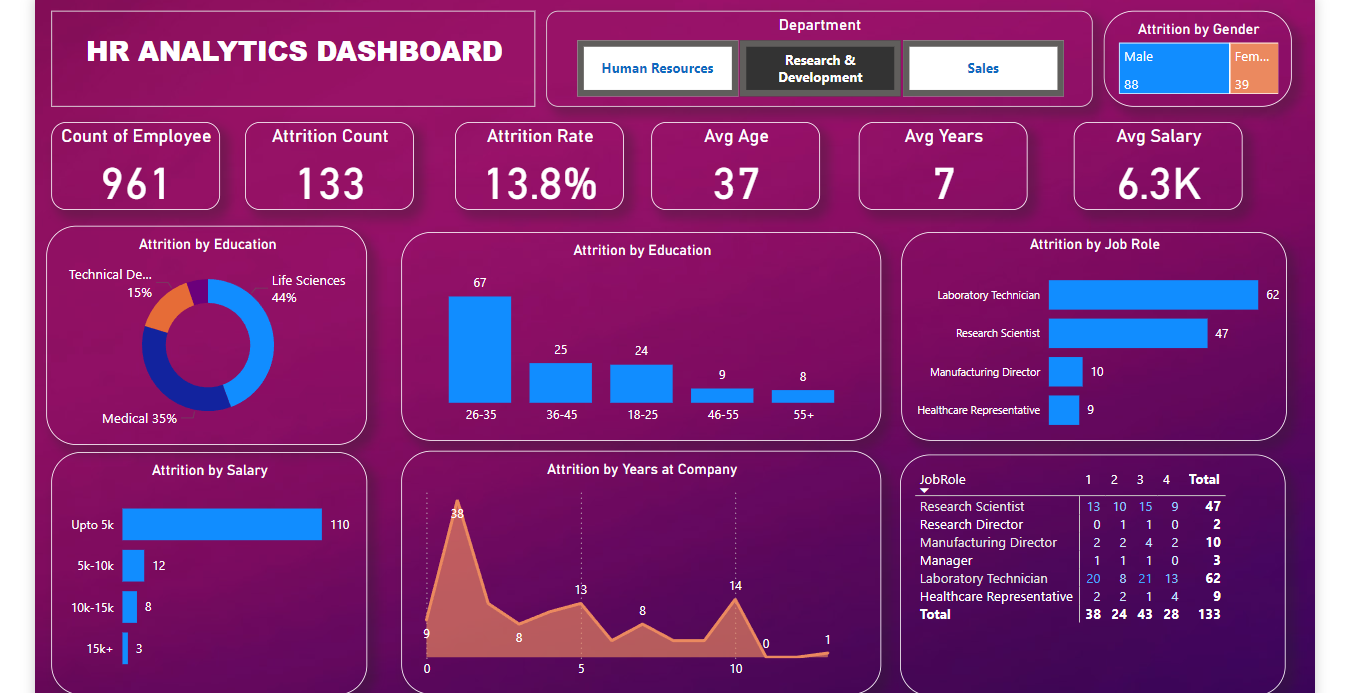

Layout of this report page (visuals, bound fields, positions):
{"tool":"powerbi","page":{"name":"Page 1","canvas":[1280,720],"ordinal":0},"visuals":[{"type":"columnChart","title":"Attrition by Education","fields":{"Category":["HR_Analytics.AgeGroup"],"Y":["Sum(HR_Analytics.AttritionCount)"]},"box":[366.4,234.6,480.3,208.6],"z":6000},{"type":"donutChart","title":"Attrition by Education","fields":{"Category":["HR_Analytics.EducationField"],"Y":["Sum(HR_Analytics.AttritionCount)"]},"box":[11,229.2,321.1,219.6],"z":7000},{"type":"pivotTable","title":"Attrition by Education","fields":{"Rows":["HR_Analytics.JobRole"],"Values":["Sum(HR_Analytics.AttritionCount)"],"Columns":["HR_Analytics.JobSatisfaction"]},"box":[864.5,456.9,385.6,241.5],"z":8000},{"type":"barChart","title":"Attrition by Salary","fields":{"Category":["HR_Analytics.SalarySlab"],"Y":["Sum(HR_Analytics.AttritionCount)"]},"box":[16.5,455.6,315.6,242.9],"z":9000},{"type":"barChart","title":"Attrition by Job Role","fields":{"Category":["HR_Analytics.JobRole"],"Y":["Sum(HR_Analytics.AttritionCount)"]},"box":[865.9,234.6,385.6,208.6],"z":10000},{"type":"areaChart","title":"Attrition by Years at Company","fields":{"Category":["HR_Analytics.YearsAtCompany"],"Y":["Sum(HR_Analytics.AttritionCount)"]},"box":[366.4,454.2,480.3,244.3],"z":11000},{"type":"treemap","title":"Attrition by Gender","fields":{"Group":["HR_Analytics.Gender"],"Values":["Sum(HR_Analytics.AttritionCount)"]},"box":[1069,13.7,188,96.1],"z":12000},{"type":"slicer","title":"Department","fields":{"Values":["HR_Analytics.Department"]},"box":[511.8,13.7,546.1,96.1],"z":13000},{"type":"textbox","box":[16.5,13.7,484.4,96.1],"z":14000},{"type":"card","title":"Count of Employee","fields":{"Values":["CountNonNull(HR_Analytics.EmpID)"]},"box":[16.5,124.9,168.8,87.8],"z":14001},{"type":"card","title":"Attrition Count","fields":{"Values":["Sum(HR_Analytics.AttritionCount)"]},"box":[209.9,124.9,168.8,87.8],"z":14002},{"type":"card","title":"Attrition Rate","fields":{"Values":["HR_Analytics.AttritionRate"]},"box":[419.9,124.9,168.8,87.8],"z":14003},{"type":"card","title":"Avg Age","fields":{"Values":["Avg(HR_Analytics.Age)"]},"box":[616.1,124.9,168.8,87.8],"z":14004},{"type":"card","title":"Avg Years","fields":{"Values":["Avg(HR_Analytics.YearsAtCompany)"]},"box":[823.3,124.9,168.8,87.8],"z":14005},{"type":"card","title":"Avg Salary","fields":{"Values":["Avg(HR_Analytics.MonthlyIncome)"]},"box":[1038.8,124.9,168.8,87.8],"z":14006}]}

Visuals, with their boxes on the page's 1280x720 design canvas (x1, y1, x2, y2). These are canvas units, not pixel positions in the 1352x693 screenshot, which may show the page scaled, cropped or inside an application window:
"Attrition by Education" columnChart: {"left": 366, "top": 235, "right": 847, "bottom": 443}
"Attrition by Education" donutChart: {"left": 11, "top": 229, "right": 332, "bottom": 449}
"Attrition by Education" pivotTable: {"left": 864, "top": 457, "right": 1250, "bottom": 698}
"Attrition by Salary" barChart: {"left": 16, "top": 456, "right": 332, "bottom": 698}
"Attrition by Job Role" barChart: {"left": 866, "top": 235, "right": 1252, "bottom": 443}
"Attrition by Years at Company" areaChart: {"left": 366, "top": 454, "right": 847, "bottom": 698}
"Attrition by Gender" treemap: {"left": 1069, "top": 14, "right": 1257, "bottom": 110}
"Department" slicer: {"left": 512, "top": 14, "right": 1058, "bottom": 110}
textbox: {"left": 16, "top": 14, "right": 501, "bottom": 110}
"Count of Employee" card: {"left": 16, "top": 125, "right": 185, "bottom": 213}
"Attrition Count" card: {"left": 210, "top": 125, "right": 379, "bottom": 213}
"Attrition Rate" card: {"left": 420, "top": 125, "right": 589, "bottom": 213}
"Avg Age" card: {"left": 616, "top": 125, "right": 785, "bottom": 213}
"Avg Years" card: {"left": 823, "top": 125, "right": 992, "bottom": 213}
"Avg Salary" card: {"left": 1039, "top": 125, "right": 1208, "bottom": 213}
